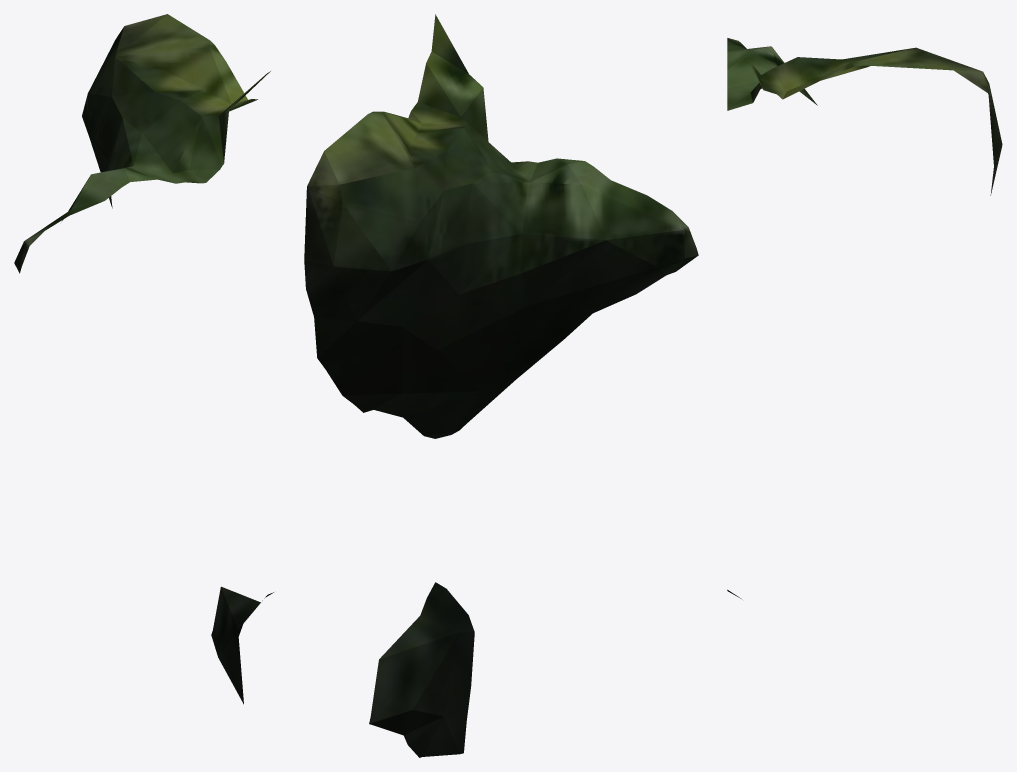
The picture shows the model from 3 angles, left to right: view 1: azimuth 30°, elevation 25°; view 2: azimuth 150°, elevation 25°; view 3: azimuth 270°, elevation 25°; orthographic projection. The views are drawn at different scales.
Size of the model in its own units: 0.2102 by 0.5585 by 0.1872.
Materials: 1 (1 with a texture image).
